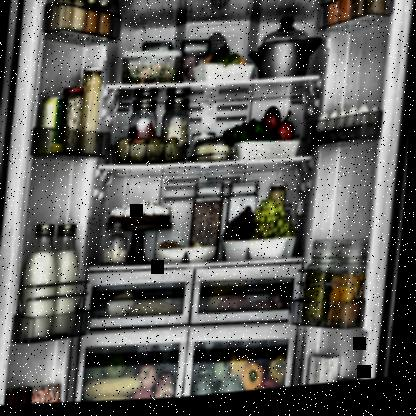apple: (140, 365, 161, 394), (160, 375, 180, 401), (137, 391, 159, 402)
broccoli: (212, 49, 240, 70)
corn: (86, 376, 144, 401), (90, 395, 136, 404)
eggs: (358, 112, 371, 132), (347, 115, 359, 136), (318, 119, 330, 139), (329, 116, 340, 137), (369, 113, 381, 132), (338, 116, 348, 135)
grapes: (255, 202, 299, 244)
green_chillies: (238, 125, 271, 148)
milk: (25, 222, 64, 317), (56, 224, 85, 284)
peas: (305, 275, 334, 328), (123, 67, 143, 85), (168, 70, 178, 86)
red_bell_pepper: (262, 383, 285, 394)
red_grapes: (226, 210, 257, 244)
tomato: (264, 111, 283, 139), (278, 126, 295, 146)
yellow_bell_pepper: (244, 367, 269, 395), (272, 359, 290, 389), (232, 354, 252, 379)
